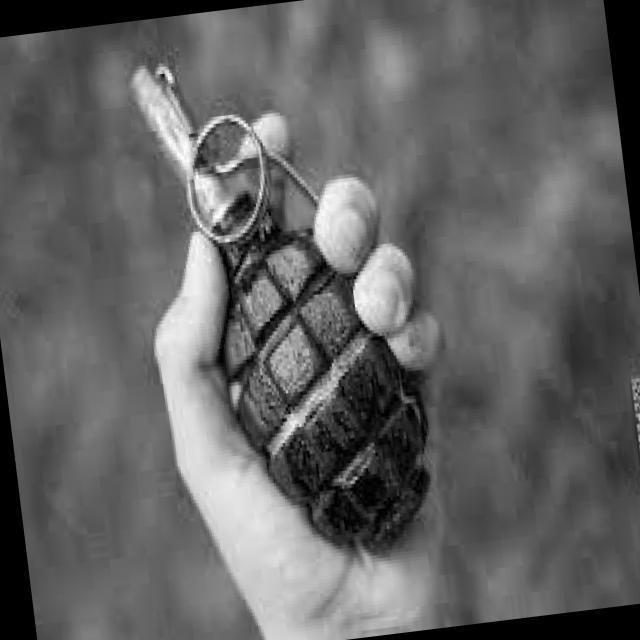grenade: (115, 34, 442, 580)
